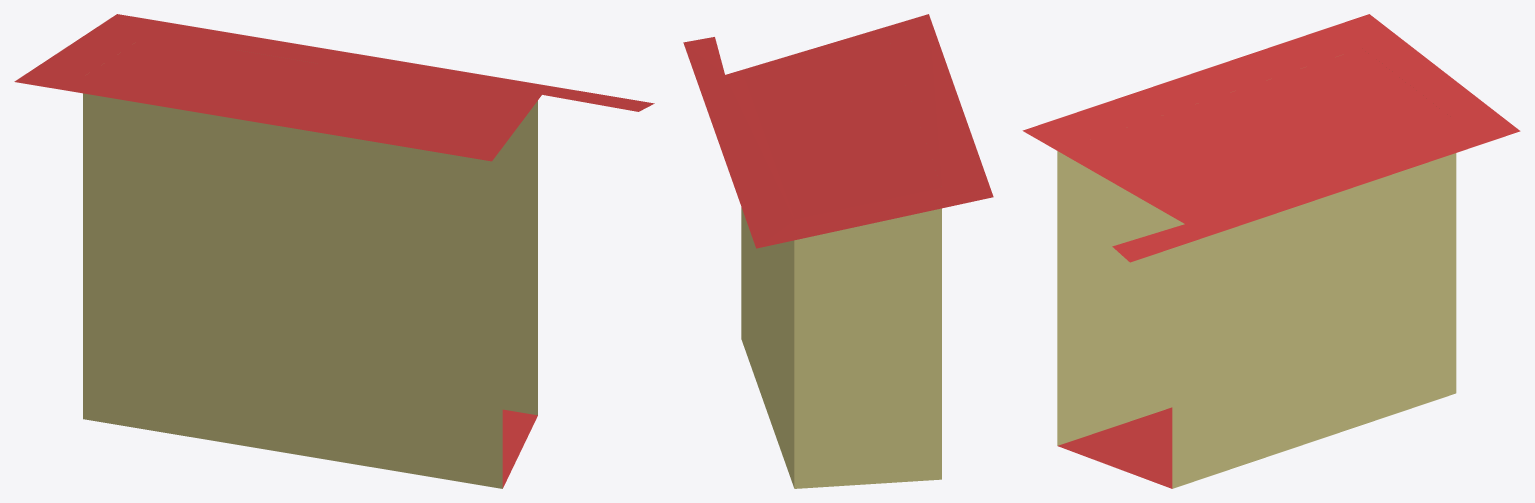
3 renders of one model, left to right at view 1: azimuth 30°, elevation 25°; view 2: azimuth 150°, elevation 25°; view 3: azimuth 270°, elevation 25°, orthographic. The views are drawn at different scales.
Size of the model in its own units: 8.17 by 8.13 by 5.44.
